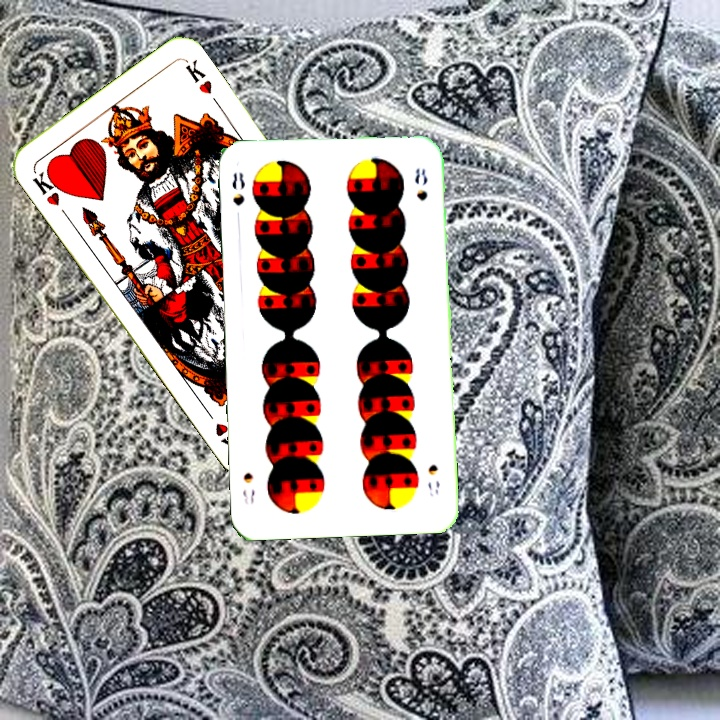HK: (28, 164, 67, 209)
S8: (227, 168, 248, 208), (423, 461, 443, 499)
